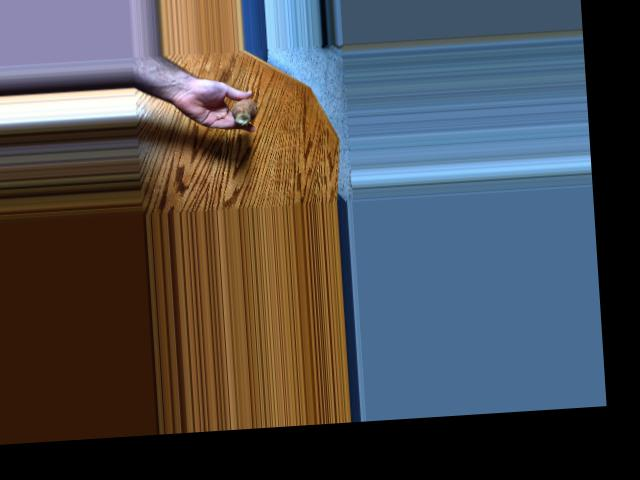sweet_potato: (231, 97, 260, 124)
